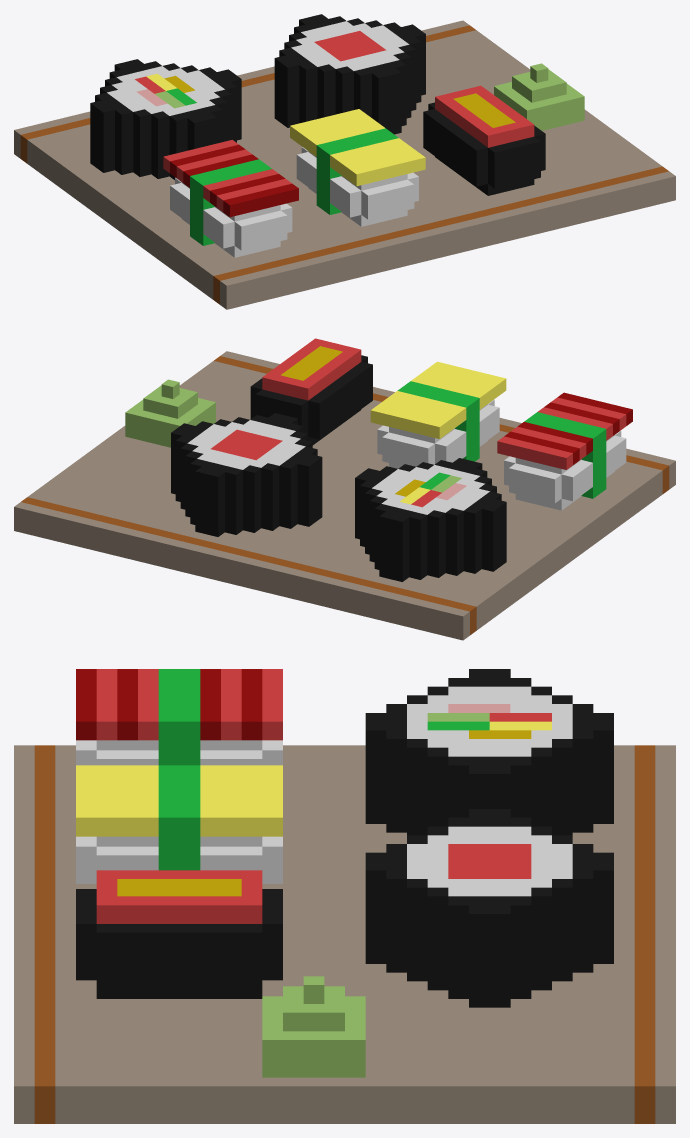
The model's file is lv45 sushi.fbx.
3 views of the same model, one above another, from view 1: azimuth 30°, elevation 25°; view 2: azimuth 150°, elevation 25°; view 3: azimuth 270°, elevation 25° (orthographic). The views are drawn at different scales.
Size of the model in its own units: 39 by 7 by 32.
